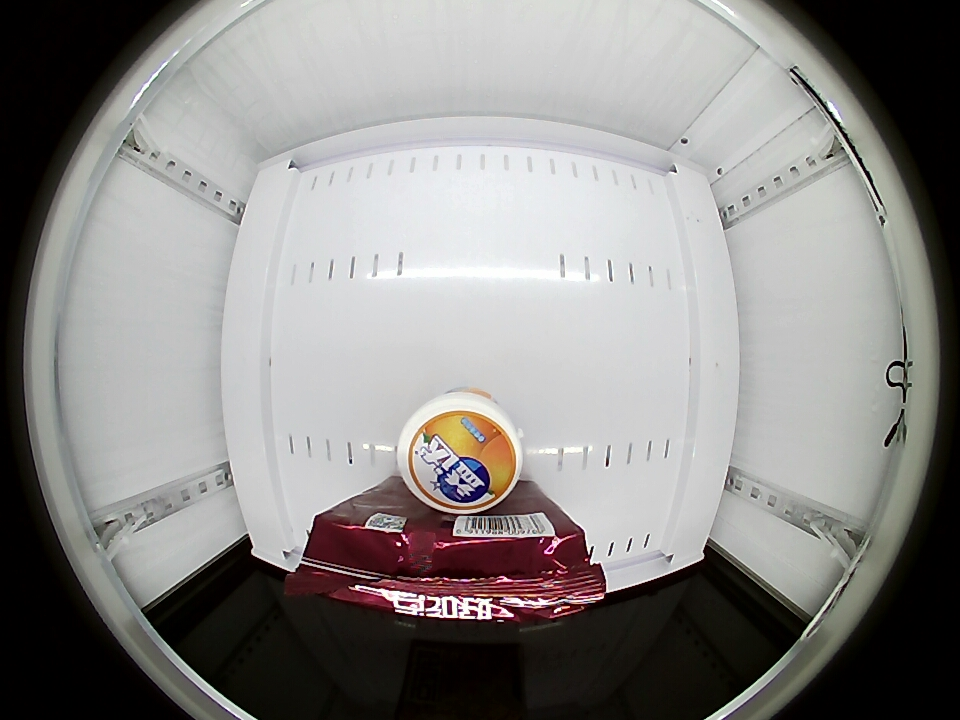haochidian: (286, 510, 606, 625)
